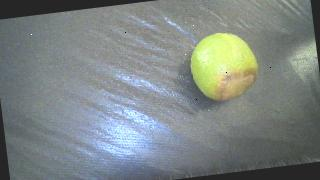DESECHO: (187, 29, 261, 104)
